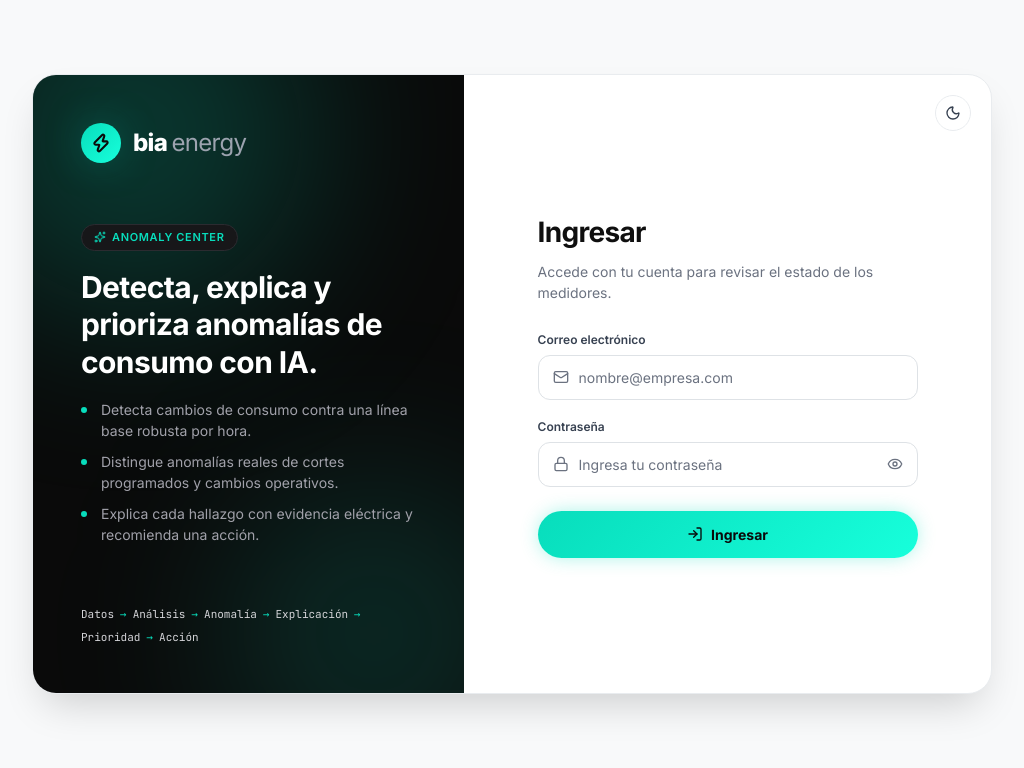
Test case: LoginForm › marks the fields rejected by the backend validation
Type "admin" into the field labelled "Correo electrónico".
click(728, 377); type("admin")  # box [538, 356, 916, 398]
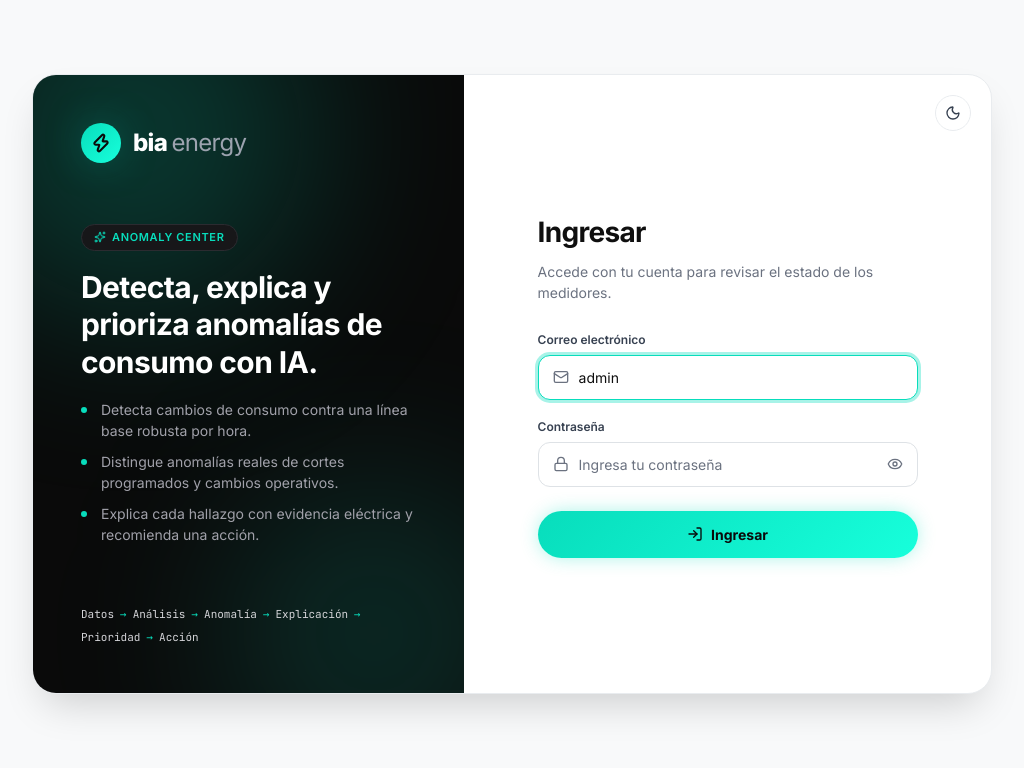
Click the button "Ingresar".
click(728, 534)  # box [538, 510, 918, 558]
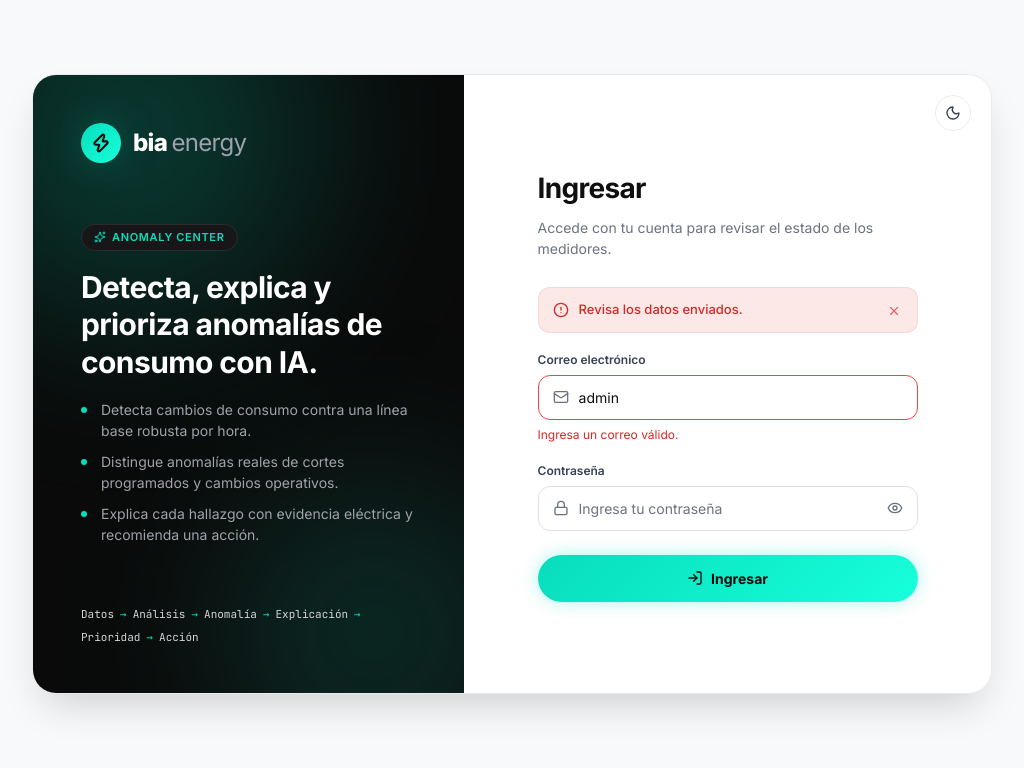
Expected: the text "Ingresa un correo válido." is shown, [538, 426, 678, 442]
